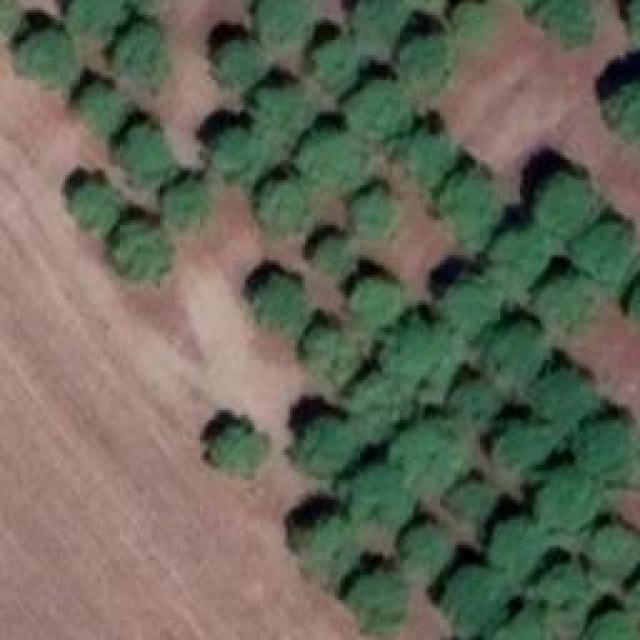Tree: (375, 315, 448, 385), (392, 425, 470, 483), (340, 465, 410, 520), (443, 568, 506, 628), (578, 420, 638, 483), (290, 513, 353, 573), (538, 470, 598, 528), (293, 418, 356, 473), (355, 567, 405, 635), (20, 30, 80, 85), (435, 173, 490, 233), (115, 220, 170, 278), (300, 130, 363, 180), (250, 83, 308, 136), (575, 225, 633, 278), (490, 520, 543, 578), (540, 367, 593, 425), (475, 325, 543, 370), (118, 123, 173, 178), (490, 230, 545, 283), (350, 375, 405, 428), (347, 83, 405, 133), (540, 172, 590, 230), (253, 275, 306, 325), (307, 325, 355, 380), (400, 130, 453, 178), (448, 280, 501, 328), (113, 23, 163, 73), (213, 125, 263, 175), (607, 72, 640, 147), (77, 83, 125, 133), (453, 378, 506, 421), (538, 273, 588, 318), (539, 0, 592, 42), (402, 38, 450, 83), (217, 425, 265, 470), (213, 40, 263, 83), (495, 424, 543, 468), (535, 565, 590, 603), (73, 180, 116, 228), (402, 523, 450, 566), (590, 528, 640, 568), (260, 180, 303, 225), (258, 0, 308, 38), (73, 0, 126, 35), (160, 178, 203, 221), (355, 278, 398, 321), (448, 480, 498, 515), (315, 38, 358, 78), (355, 0, 400, 38), (582, 612, 640, 640), (355, 190, 393, 230), (493, 615, 553, 640), (455, 0, 490, 35), (318, 238, 348, 268), (0, 0, 22, 32)
